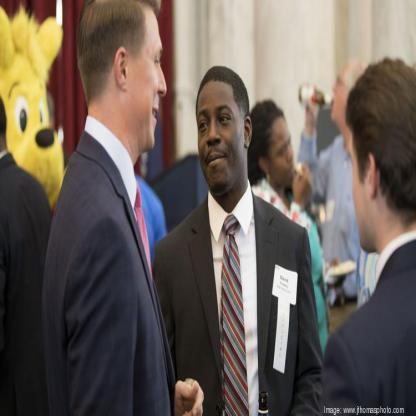Not_Wearing_Mask: (124, 11, 164, 159), (196, 94, 243, 194), (348, 127, 376, 251), (272, 129, 298, 185), (330, 64, 346, 132)
